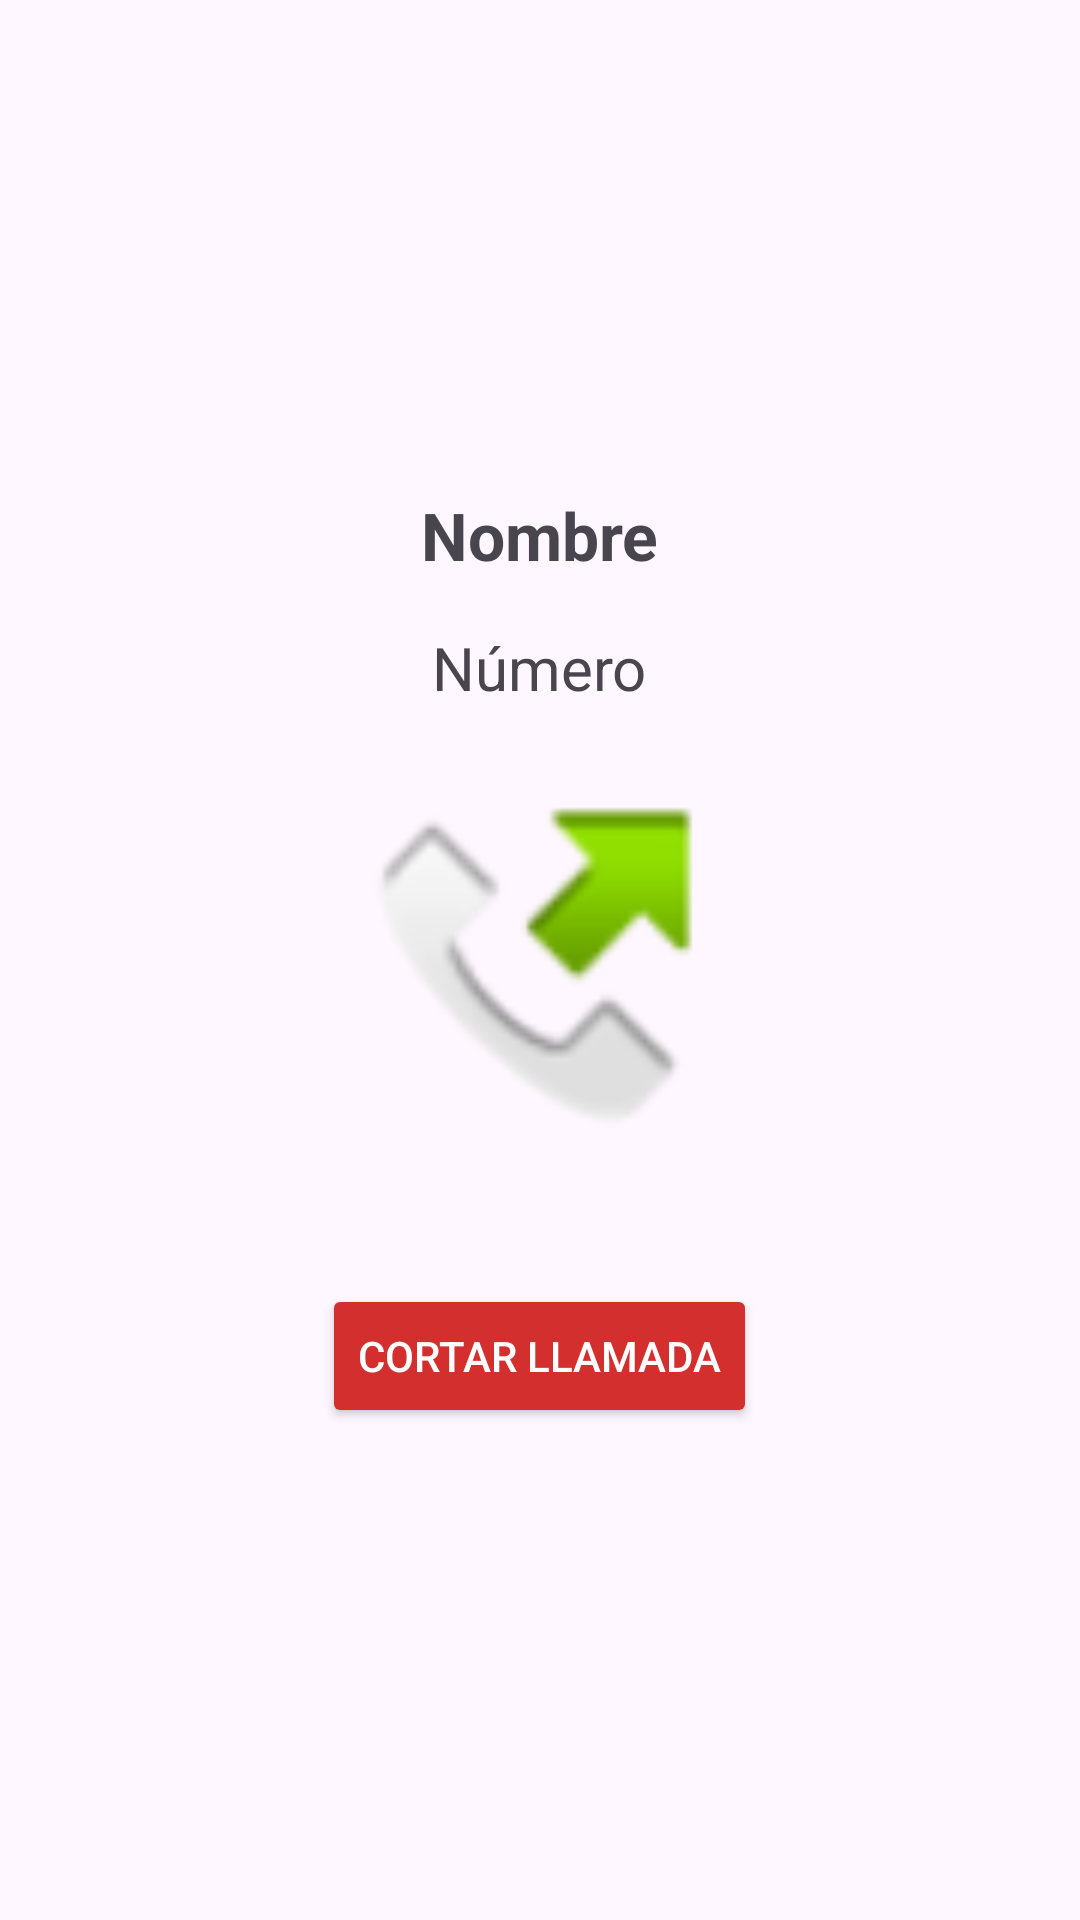

Where to tap for icons on this 1080*1920 app screen, as (x=x, y=y):
sym call outgoing: (x=538, y=960)
